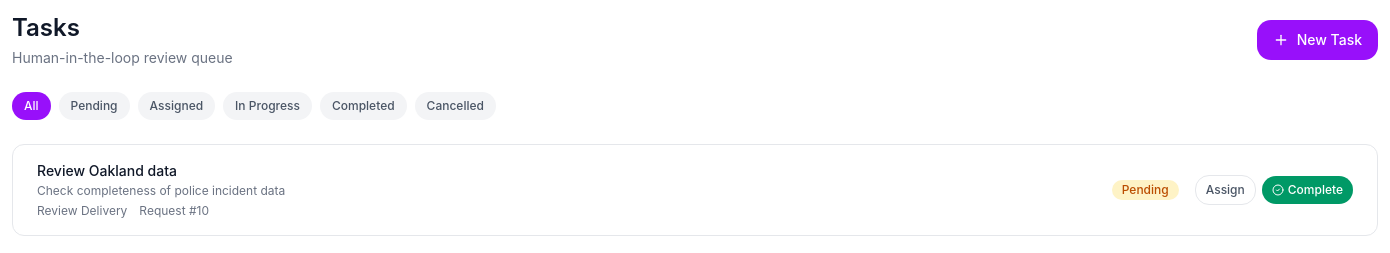
Scenario: TasksContent › shows a spinner on the Complete button while completing
Check: the text "Review Oakland data" is shown, box x1=37 y1=162 x2=177 y2=179
Step 1. Click the button "Complete" → (1307, 190), box x1=1262 y1=176 x2=1353 y2=204
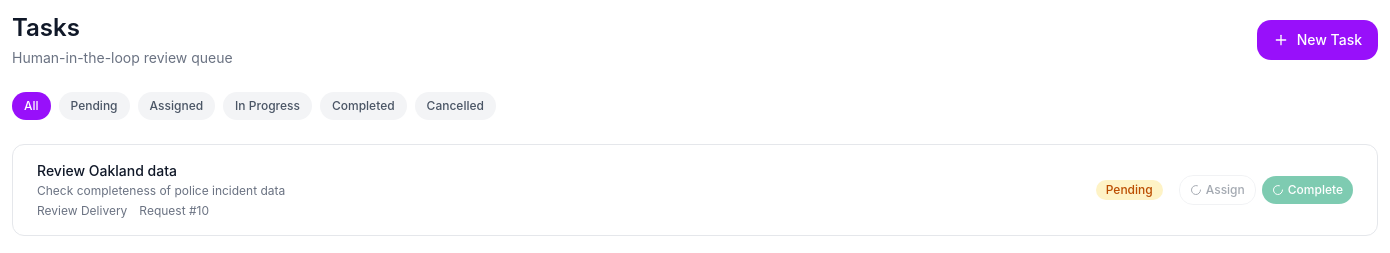
Check: the button "Complete" is disabled, box x1=1262 y1=176 x2=1353 y2=204
Check: the 2nd icon with class "animate-spin" is shown, box x1=1272 y1=184 x2=1284 y2=196
